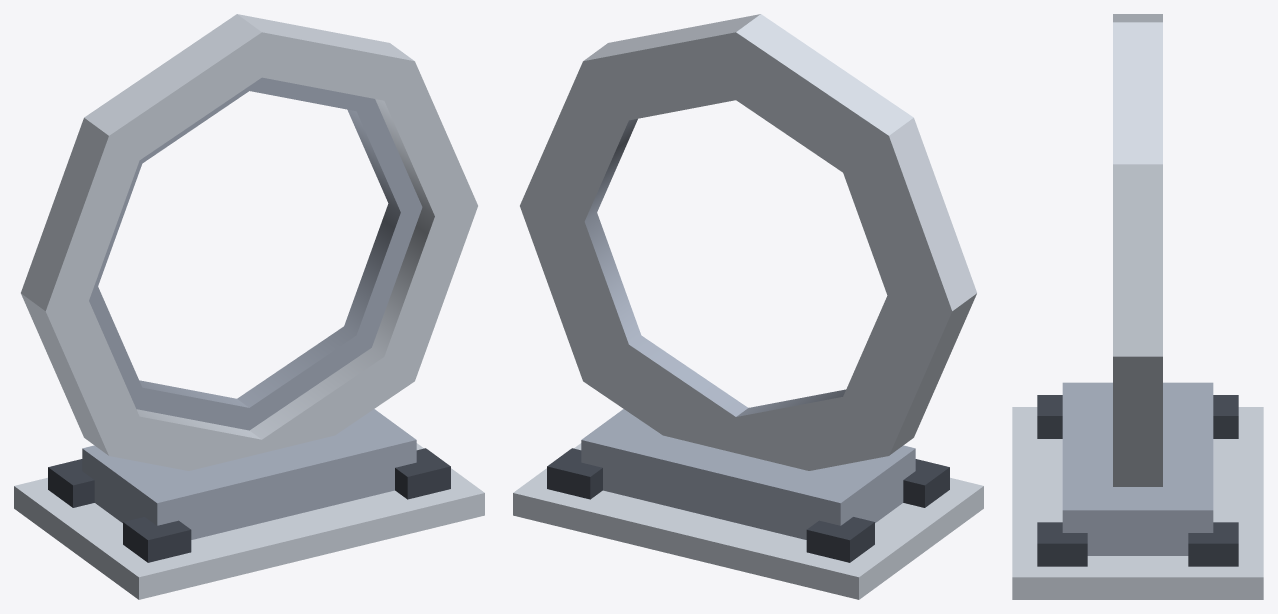
The model's file is gate_simple.dae.
The picture shows the model from 3 angles, left to right: view 1: azimuth 30°, elevation 25°; view 2: azimuth 150°, elevation 25°; view 3: azimuth 270°, elevation 25°; orthographic projection.
Visible parts, largest first — view 1: gate_simple; view 2: gate_simple; view 3: gate_simple.
Part boxes in pixels (bbox=[...]): gate_simple: bbox=[14, 14, 484, 599]; gate_simple: bbox=[513, 14, 983, 599]; gate_simple: bbox=[1012, 14, 1263, 599].
Size of the model in its own units: 1 by 1.08 by 0.5.
